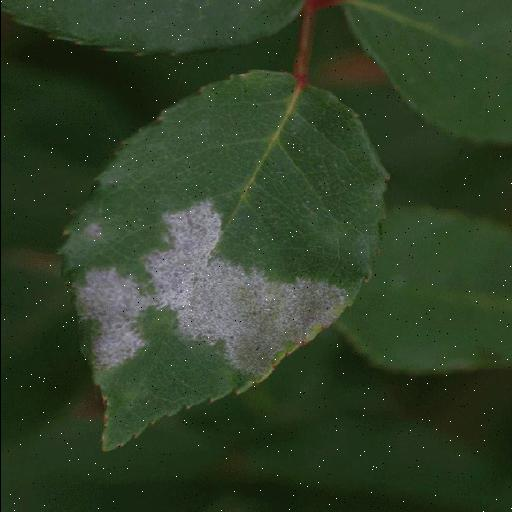powdery_mildew: (60, 70, 386, 450)
